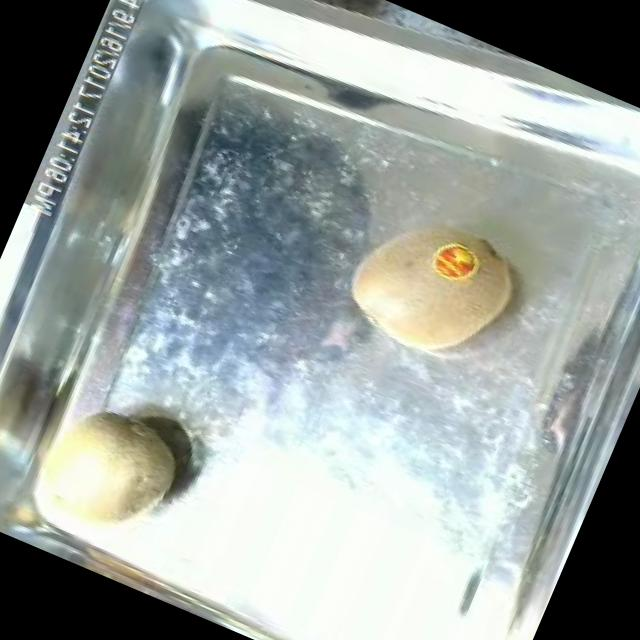Fruit: (322, 186, 542, 392), (0, 373, 202, 577)
